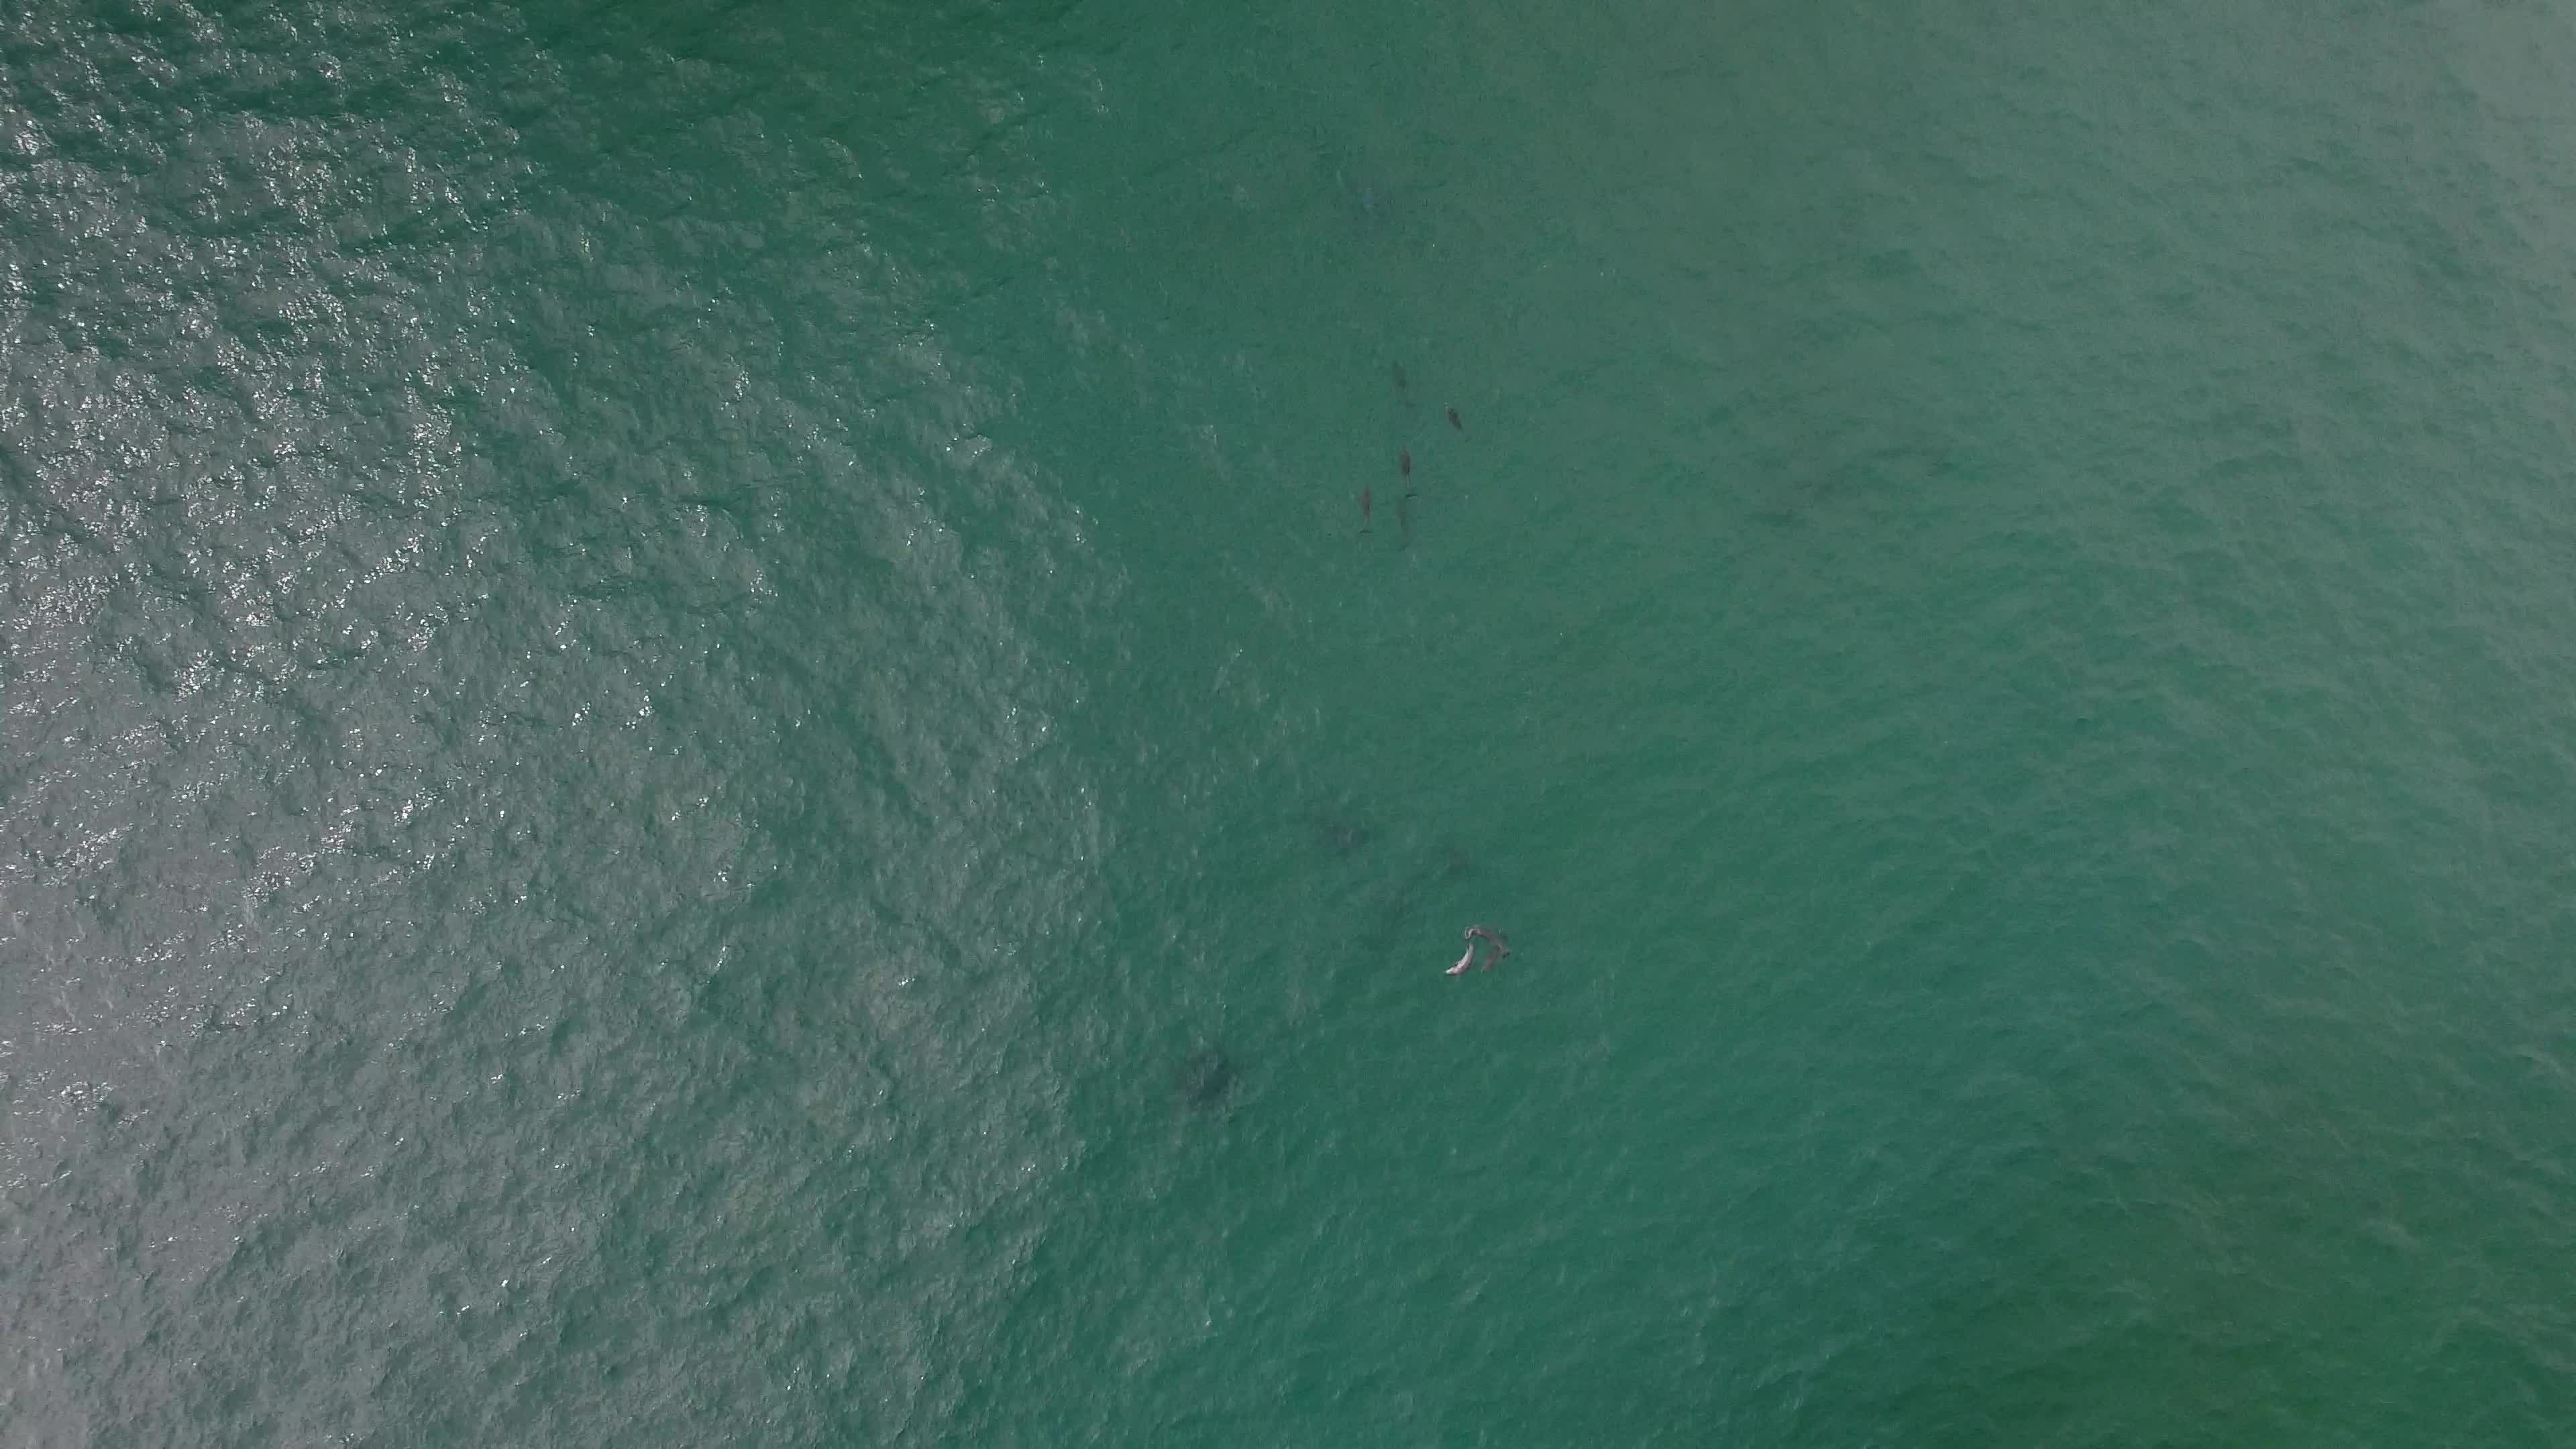dolphin: (1467, 920, 1516, 985), (1345, 467, 1384, 541), (1438, 922, 1479, 987), (1431, 386, 1472, 448), (1389, 425, 1419, 497)
